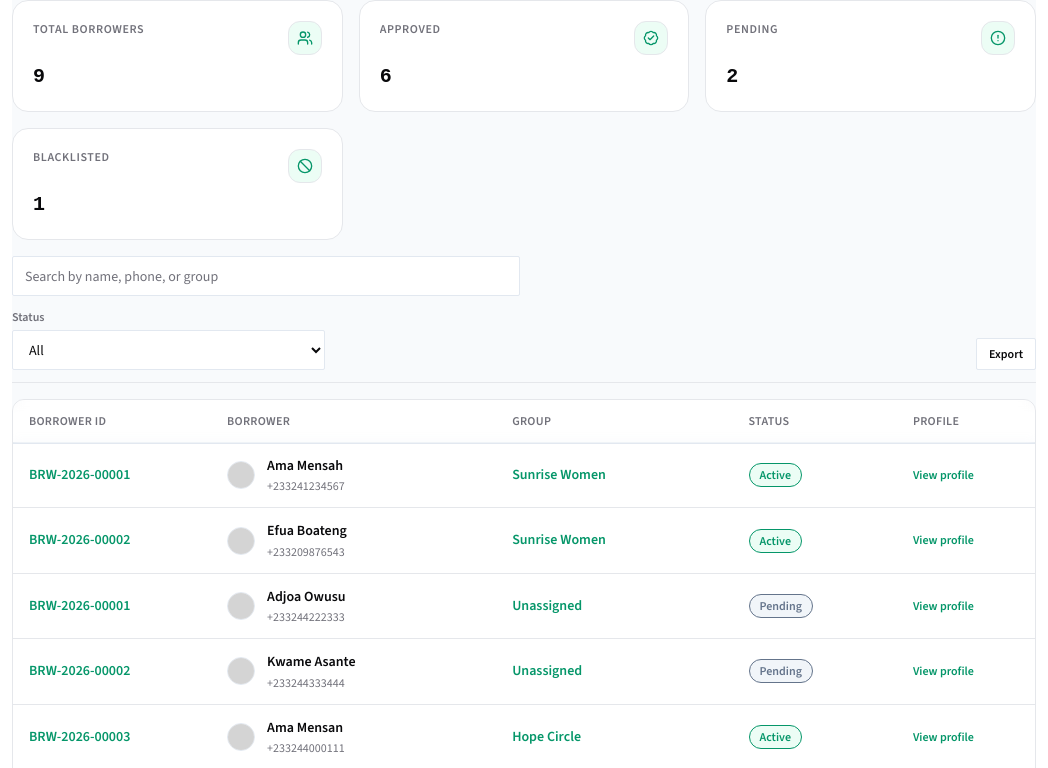
Scenario: BorrowerList › filters borrowers by status
Step 1. Select "Active" in the dropdown named "Filter borrowers by status" → (169, 350), box [12,330,325,370]
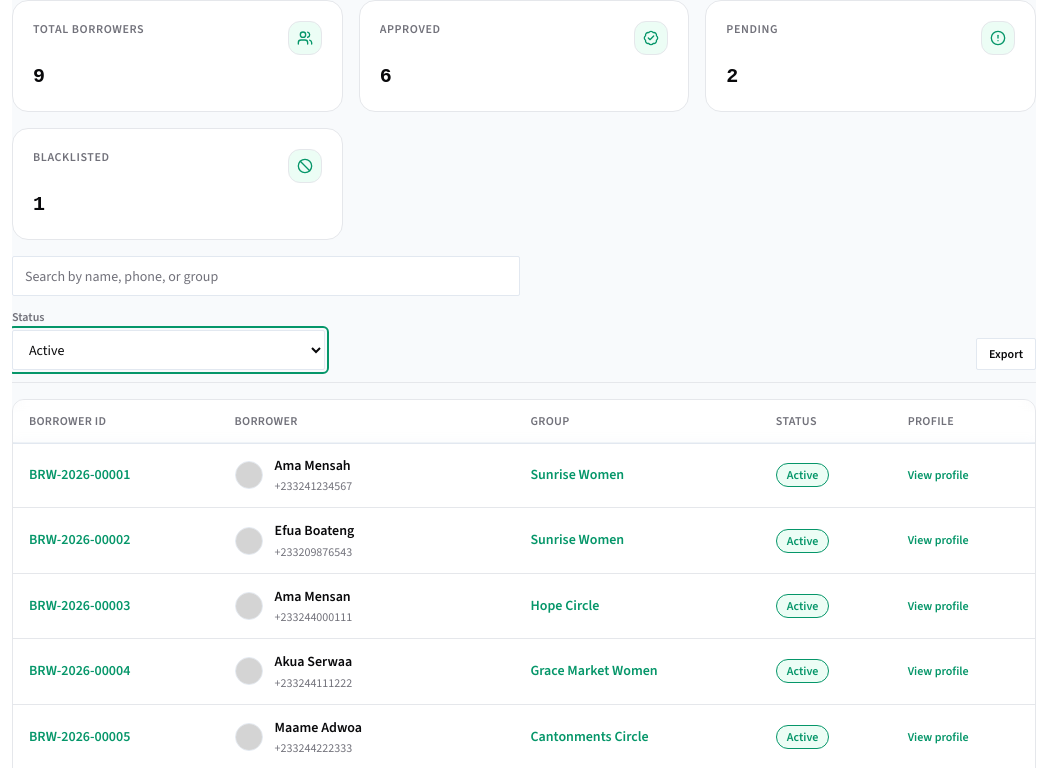
Expected: the text "Adjoa Owusu" is gone
